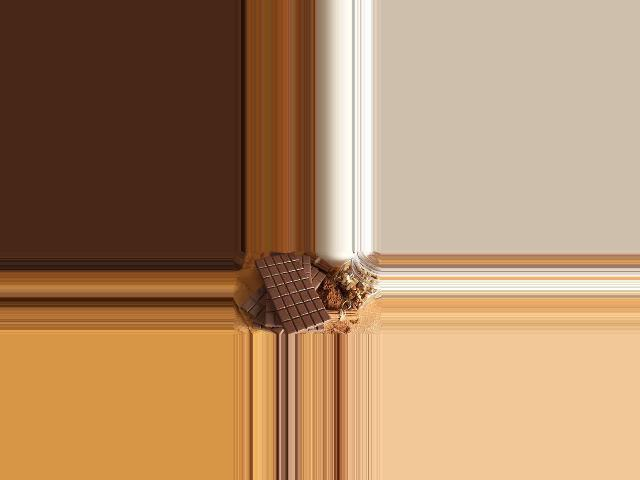chocolate: (253, 255, 335, 334)
